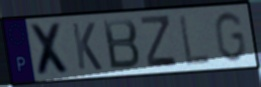B: (101, 17, 142, 72)
G: (212, 10, 248, 64)
K: (69, 21, 104, 72)
L: (177, 13, 213, 68)
X: (27, 21, 74, 77)
Z: (139, 13, 179, 68)
